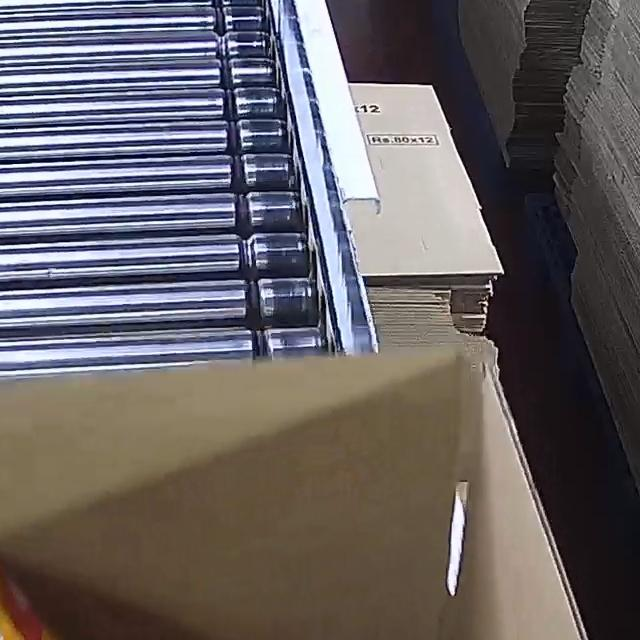cheese: (0, 549, 495, 640)
